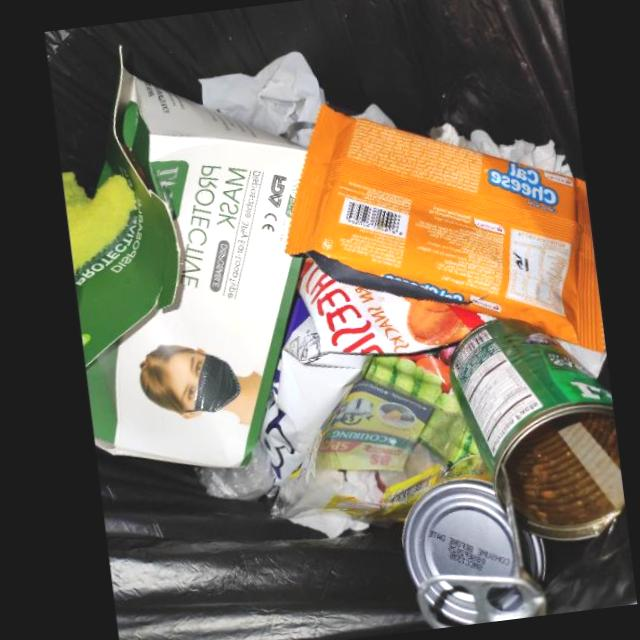bao_bi_thuc_pham: (284, 102, 607, 352), (261, 261, 495, 479)
carton: (75, 63, 307, 467)
goi_nhua_nho: (312, 384, 436, 473)
nhom: (402, 317, 625, 628)
